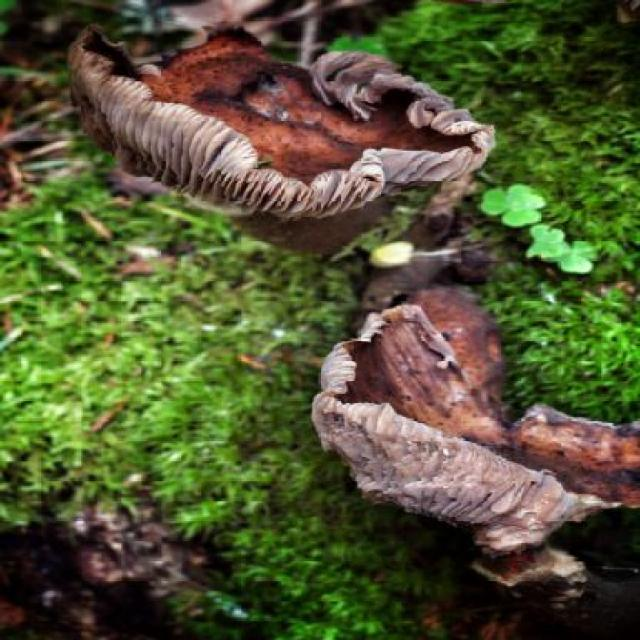Mushroom: (46, 22, 503, 250), (307, 301, 640, 558)
